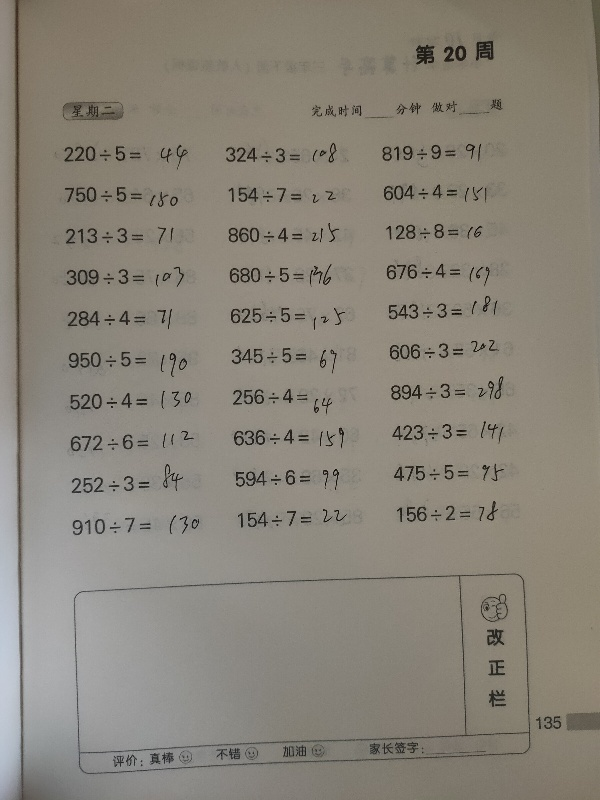equation: (61, 257, 191, 301), (223, 375, 343, 417), (60, 464, 185, 504), (56, 180, 184, 219), (219, 215, 355, 251), (55, 301, 204, 333), (387, 453, 509, 492), (225, 416, 359, 451), (227, 499, 352, 536), (224, 295, 348, 331), (221, 256, 345, 292), (61, 220, 185, 256), (51, 142, 192, 173), (56, 424, 203, 453), (384, 499, 511, 532), (229, 463, 352, 497), (228, 337, 347, 372), (385, 371, 509, 404), (381, 293, 515, 323), (383, 257, 505, 288), (53, 384, 203, 409), (60, 349, 193, 377), (385, 417, 520, 444), (220, 177, 352, 204), (68, 512, 203, 538), (369, 183, 497, 209), (222, 140, 341, 167), (381, 216, 495, 243), (385, 338, 501, 362), (379, 140, 485, 165), (412, 38, 497, 66)
